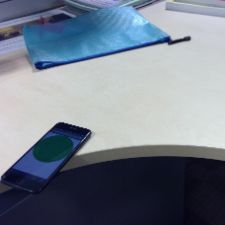focus: (32, 133, 77, 165)
